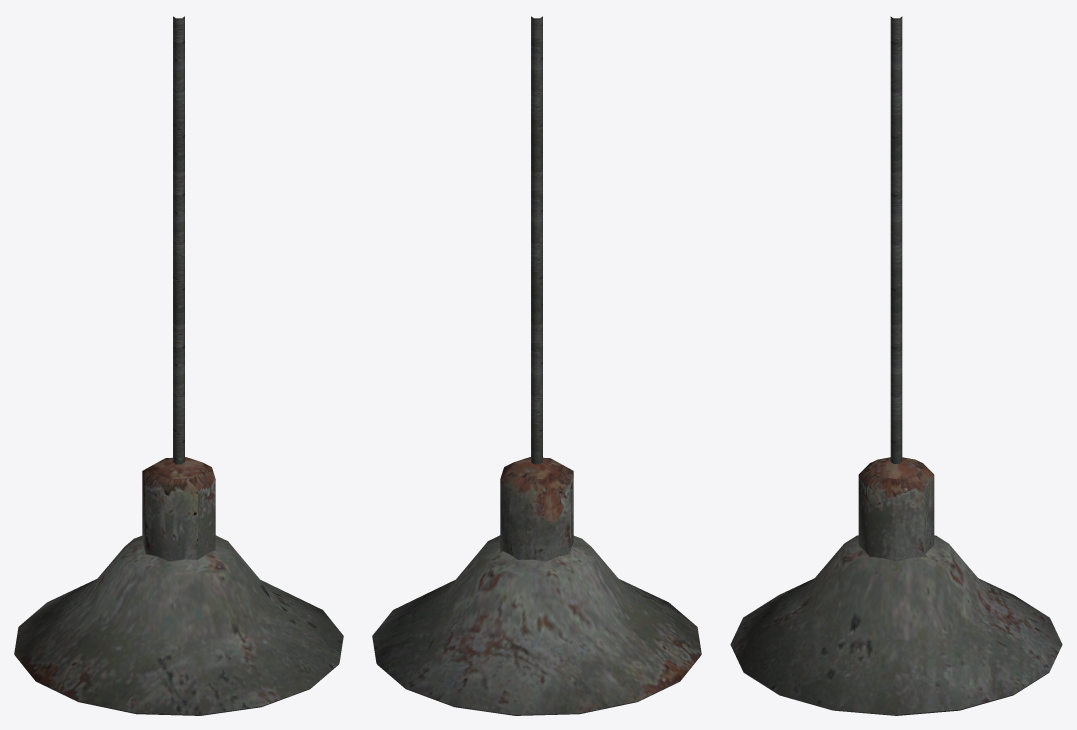
Rendered from WaresLight.glb.
3 views of the same model, side by side, from view 1: azimuth 30°, elevation 25°; view 2: azimuth 150°, elevation 25°; view 3: azimuth 270°, elevation 25° (orthographic).
Parts seen in each view (by area): view 1: WaresLight; view 2: WaresLight; view 3: WaresLight.
Part boxes in pixels (bbox=[...]): WaresLight: bbox=[14, 16, 343, 715]; WaresLight: bbox=[372, 16, 701, 715]; WaresLight: bbox=[730, 16, 1062, 715].
Size of the model in its own units: 0.8766 by 1.87 by 0.8766.
1 material, 1 textured.
